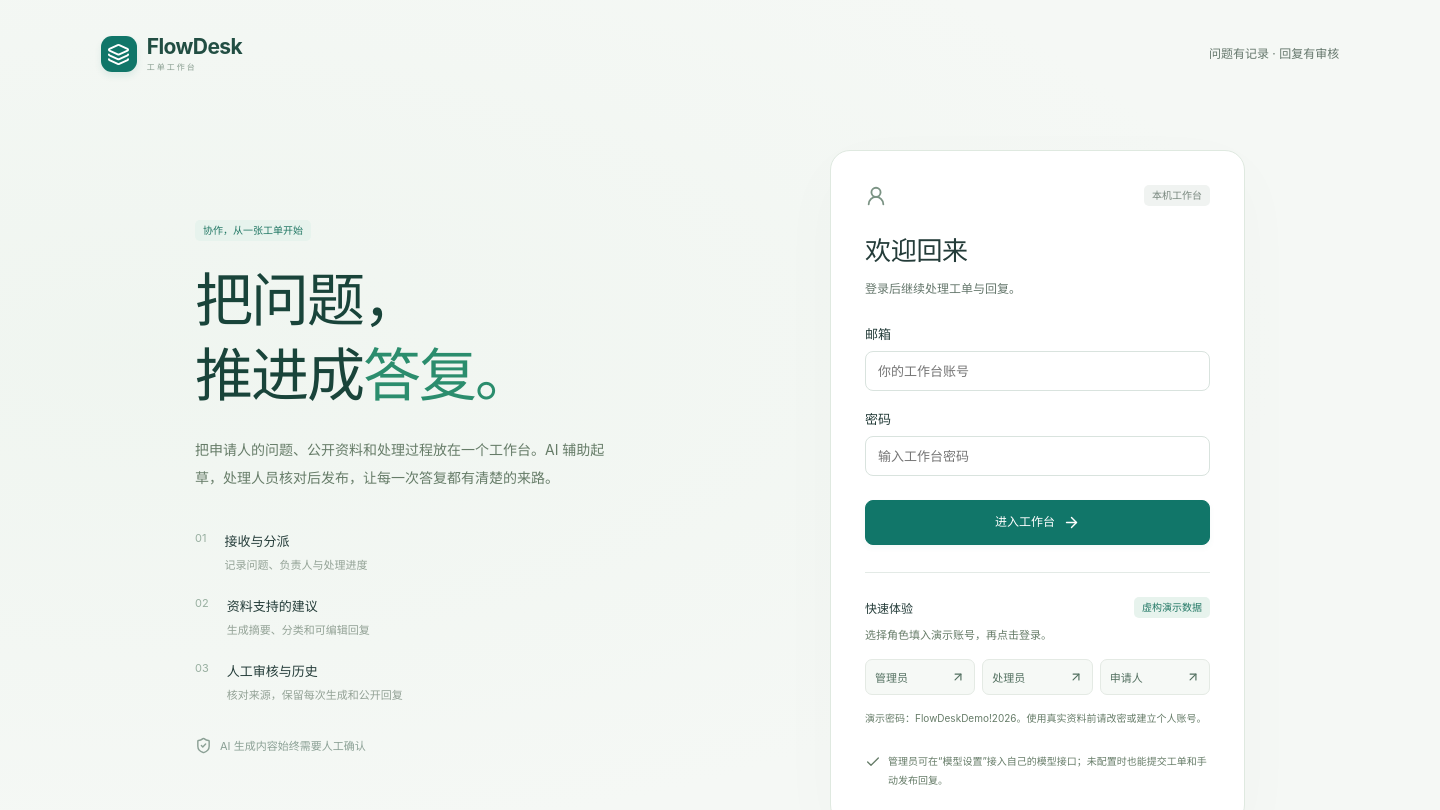
Test: retains explicit quick login for the separate demo workspace
Click the button "管理员" at (920, 677), box left=865, top=659, right=975, bottom=695
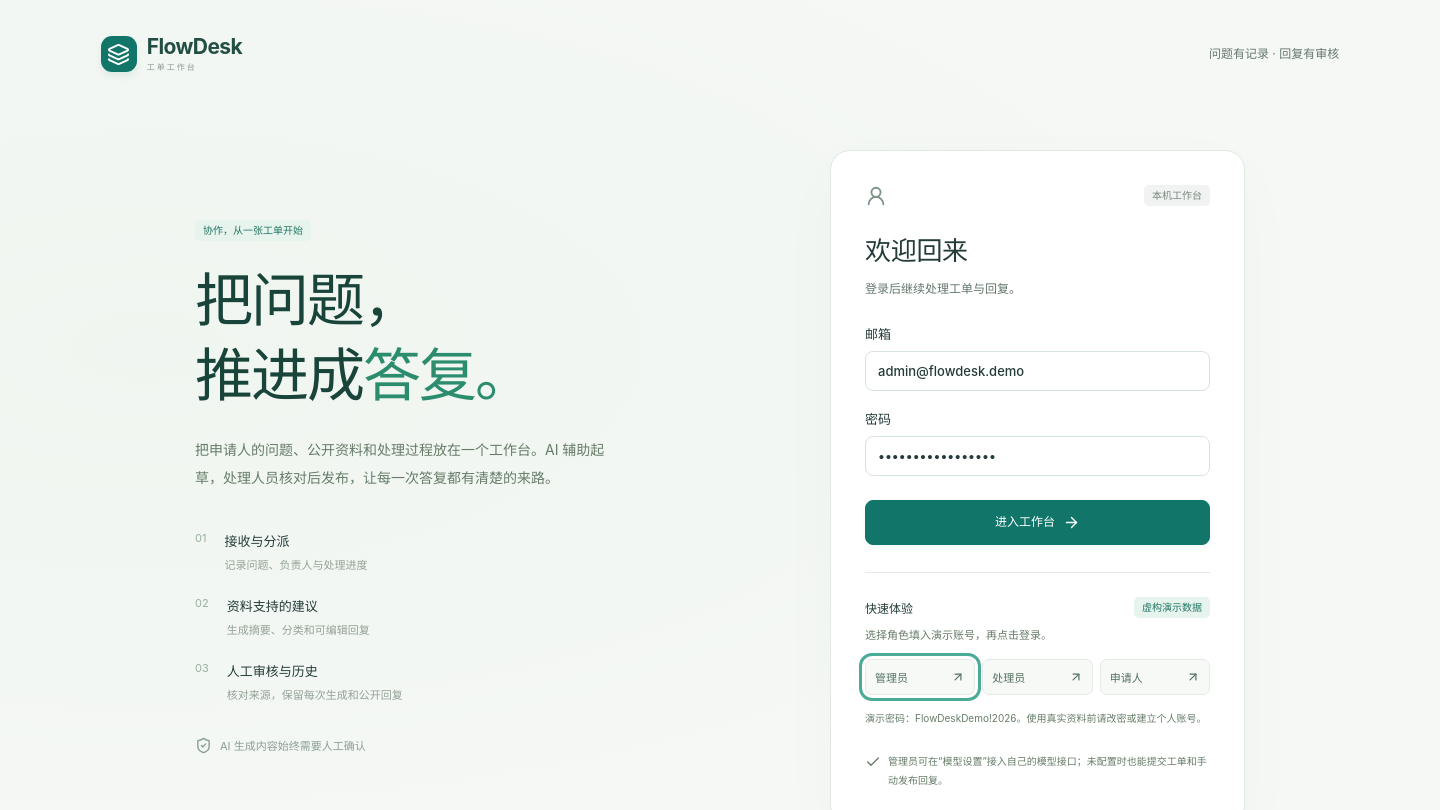
Check: the field labelled "邮箱" holds "admin@flowdesk.demo", box left=865, top=351, right=1210, bottom=391
Check: the password field labelled "密码" holds "FlowDeskDemo!2026", box left=865, top=436, right=1210, bottom=476
